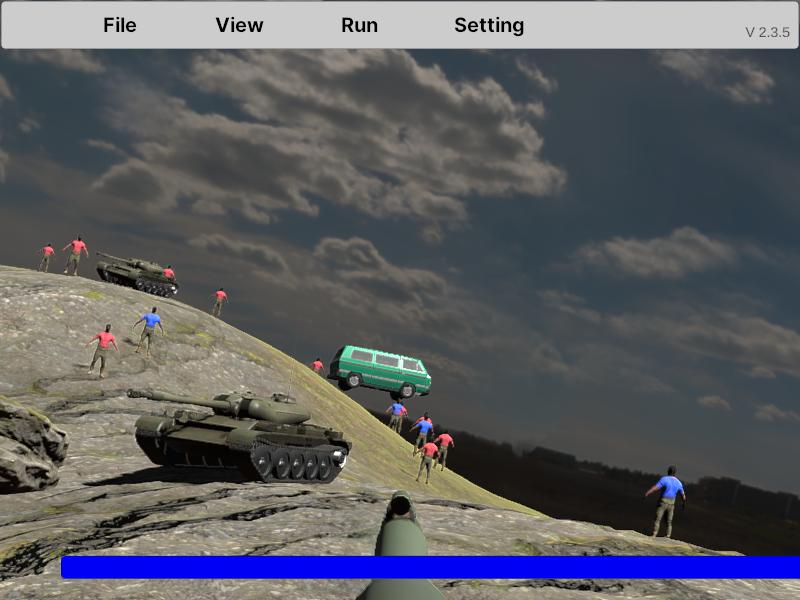Human: (644, 465, 686, 542), (86, 323, 119, 379), (132, 306, 164, 356)
Tank: (127, 385, 354, 484), (96, 250, 179, 299)
car: (329, 346, 432, 402)
